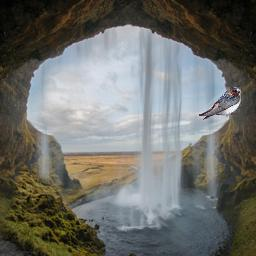Swallow: (199, 87, 241, 120)
